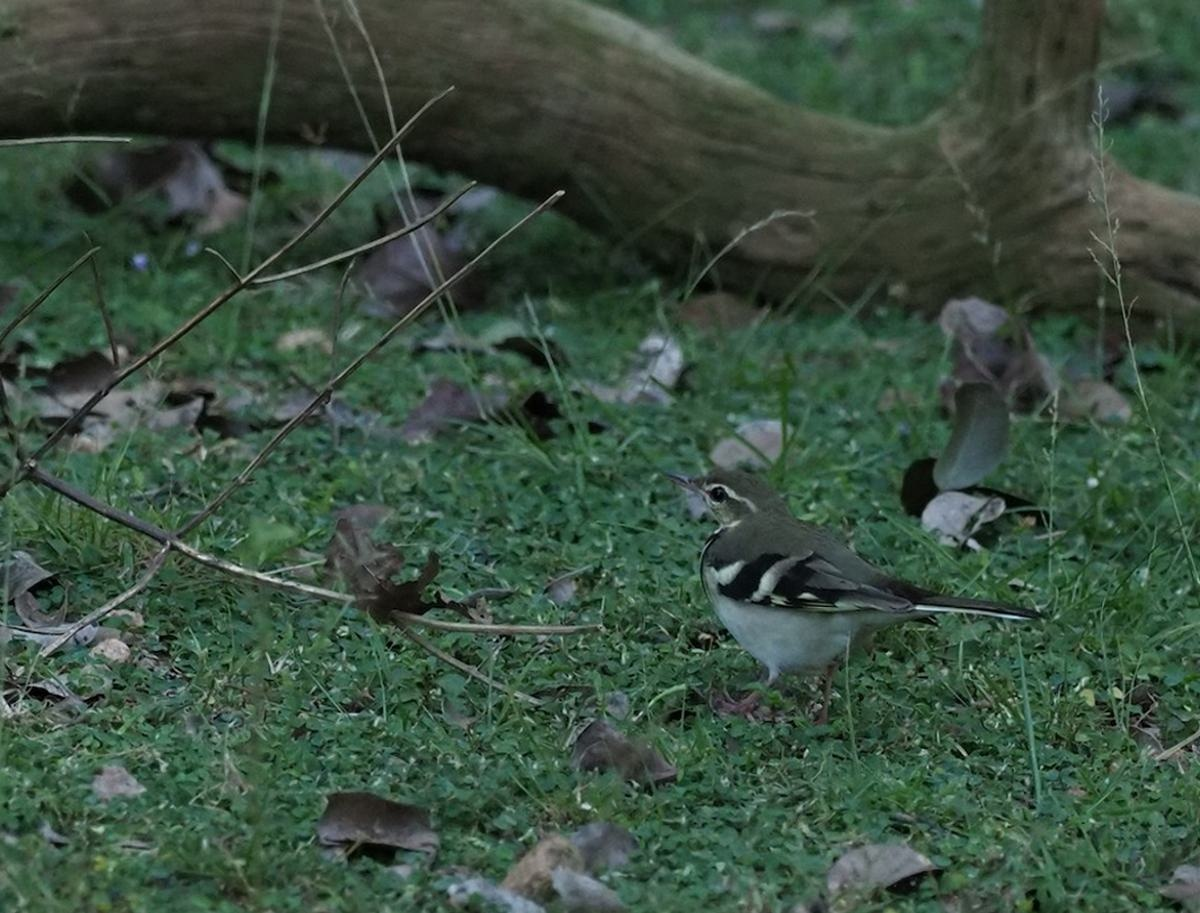wagtail: (674, 450, 949, 660)
